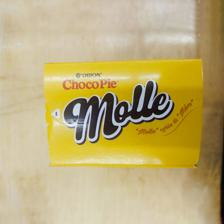Molle: (42, 57, 205, 172)
